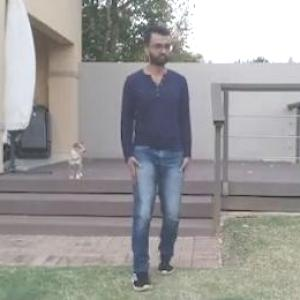follow: (116, 1, 220, 261)
